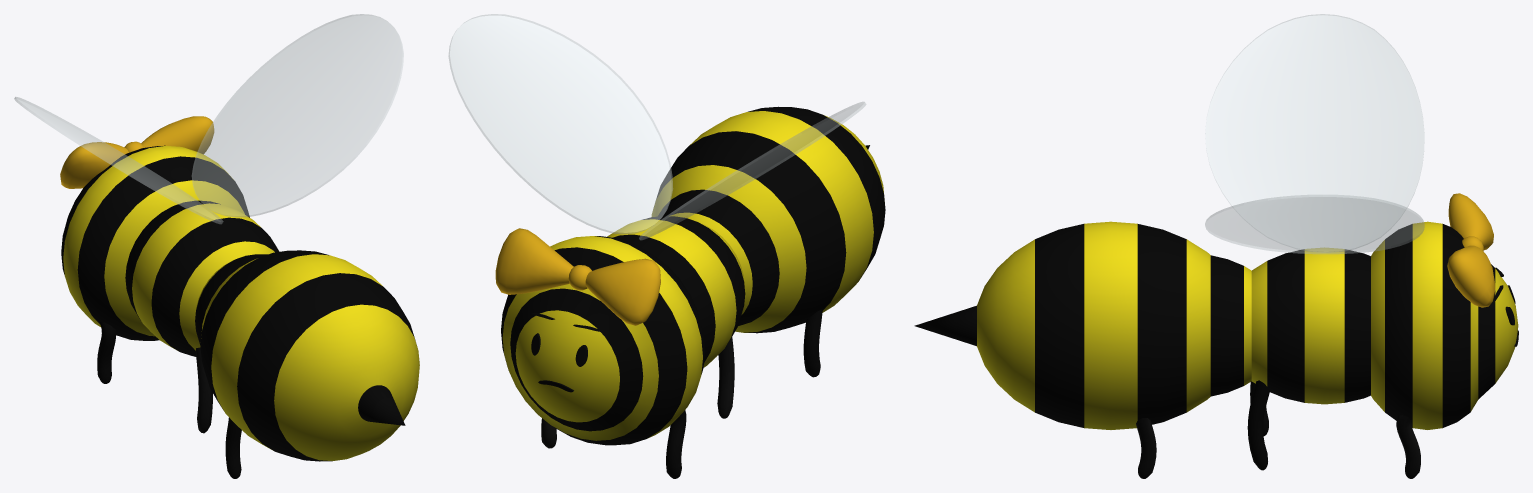
Rendered from Bee the boss.glb.
The picture shows the model from 3 angles, left to right: view 1: azimuth 30°, elevation 25°; view 2: azimuth 150°, elevation 25°; view 3: azimuth 270°, elevation 25°; orthographic projection. The views are drawn at different scales.
Visible parts, largest first — view 1: Body.007, wing right dee.001, Body.005, Body.008, hair bow.001, wing left dee.001, Legs.005, Body.006; view 2: wing right dee.001, Body.007, Body.005, Body.008, hair bow.001, Body.006, wing left dee.001, Legs.005; view 3: Body.007, wing left dee.001, Body.005, Body.008, wing right dee.001, Body.006, hair bow.001, Legs.005.
Part boxes in pixels (box(x1,y1,x2,y2)): Body.007: box(200, 250, 419, 461); wing right dee.001: box(192, 14, 403, 216); Body.005: box(61, 145, 249, 340); Body.008: box(125, 200, 279, 356); hair bow.001: box(60, 116, 214, 188); wing left dee.001: box(14, 97, 223, 223); Legs.005: box(97, 322, 241, 478); Body.006: box(195, 254, 267, 345); wing right dee.001: box(448, 14, 672, 233); Body.007: box(651, 106, 885, 333); Body.005: box(501, 236, 705, 445); Body.008: box(607, 216, 745, 367); hair bow.001: box(495, 228, 660, 325); Body.006: box(658, 189, 779, 325); wing left dee.001: box(639, 102, 866, 239); Legs.005: box(541, 309, 822, 478); Body.007: box(914, 221, 1210, 429); wing left dee.001: box(1205, 14, 1424, 252); Body.005: box(1371, 221, 1518, 429); Body.008: box(1251, 247, 1370, 404); wing right dee.001: box(1205, 195, 1424, 253); Body.006: box(1210, 255, 1251, 396); hair bow.001: box(1447, 193, 1495, 307); Legs.005: box(1136, 380, 1420, 478).
Size of the model in its own units: 3.8 by 3.4 by 5.34.
3 materials, 3 textured.
